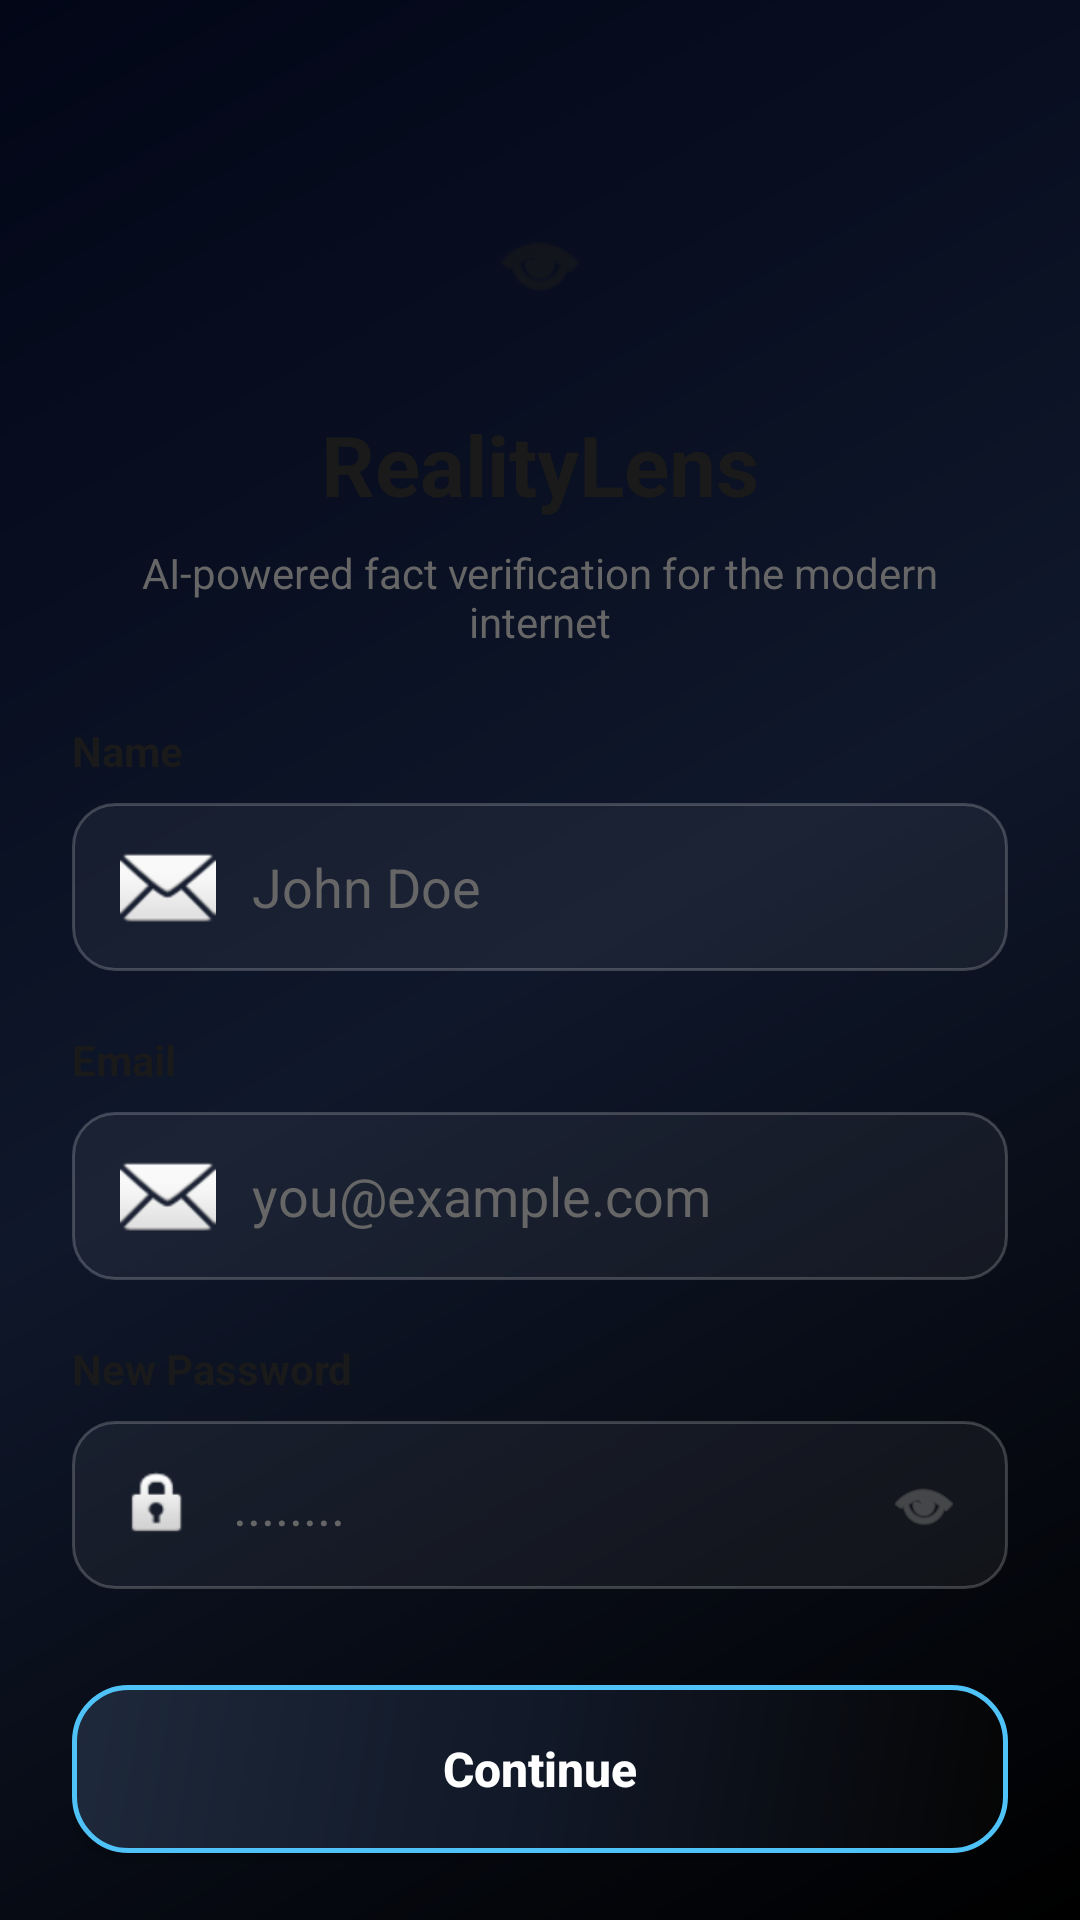

Icon click points for this 1080px×1920px phone screenshot, format (x=x, y=y):
Toggle Password Visibility: (x=924, y=1507)
